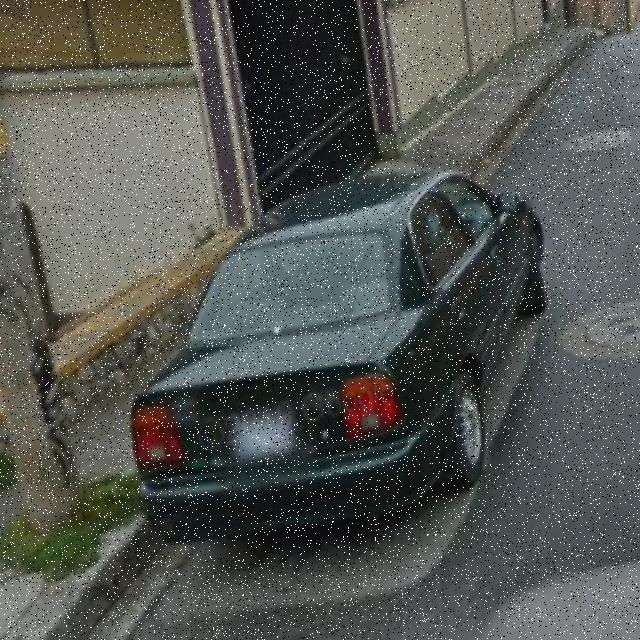cars: (134, 165, 544, 530)
